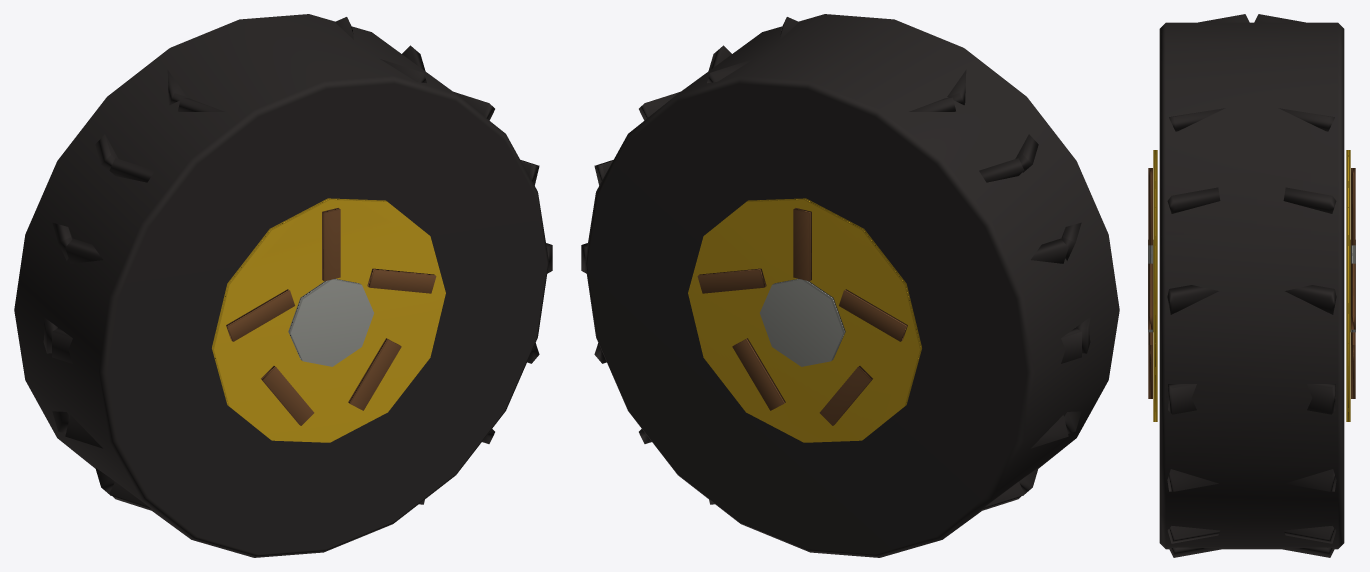
File: wheel_monster.glb
3 renders of one model, left to right at view 1: azimuth 30°, elevation 25°; view 2: azimuth 150°, elevation 25°; view 3: azimuth 270°, elevation 25°, orthographic. The views are drawn at different scales.
Visible parts, largest first — view 1: wheel_monster; view 2: wheel_monster; view 3: wheel_monster.
Part boxes in pixels (x1,y1,x2,y2): wheel_monster: (14, 14, 552, 557); wheel_monster: (581, 14, 1119, 557); wheel_monster: (1148, 14, 1355, 557).
Bounding box in the file's own units: 1.7 × 1.65 × 0.646.
